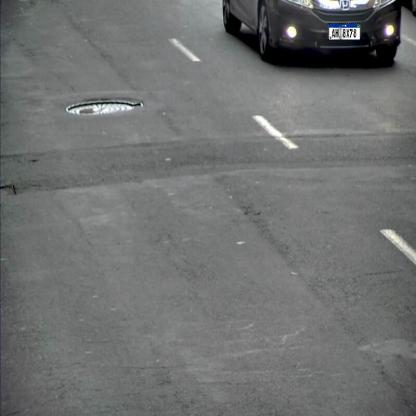PlacaM: (329, 23, 360, 40)
